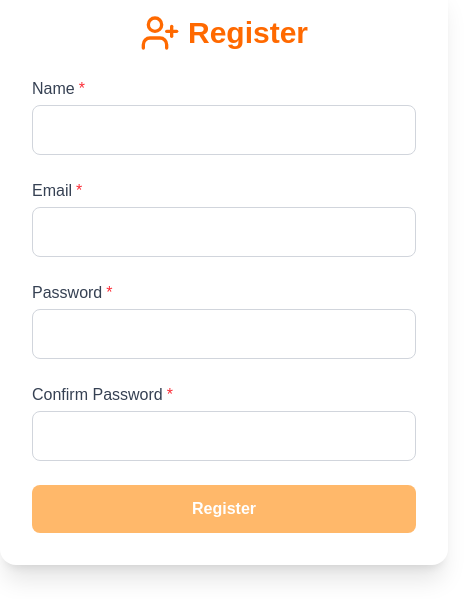
RegisterForm › should enable submit button when form is valid
Type "Enzo Jonh" into the field with test id "name" at (224, 130), box [32,105,416,155]
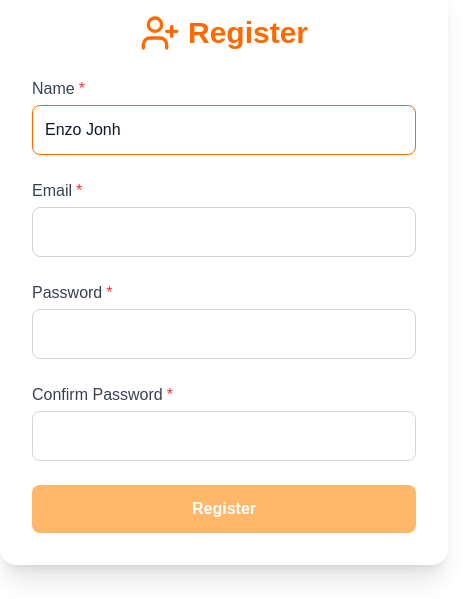
Type "enzo@jonh.com" into the field with test id "email" at (224, 232), box [32,207,416,257]
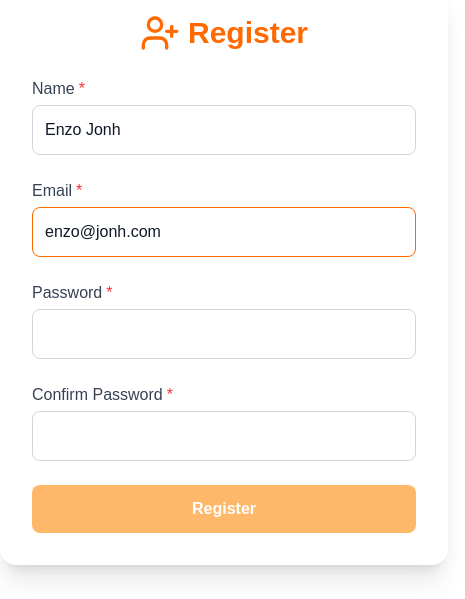
Type "S&nha123" into the password field with test id "password" at (224, 334), box [32,309,416,359]
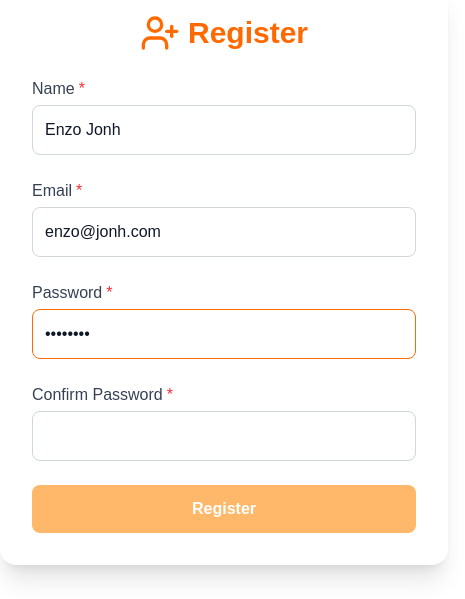
Type "S&nha123" into the password field with test id "confirm-password" at (224, 436), box [32,411,416,461]
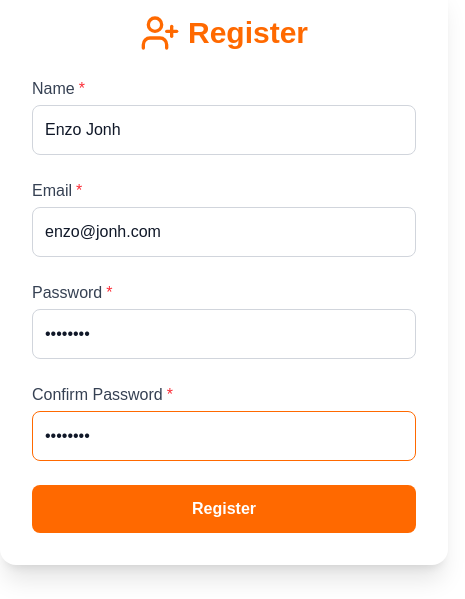
Expected: the button "Register" is enabled, [32,485,416,533]
